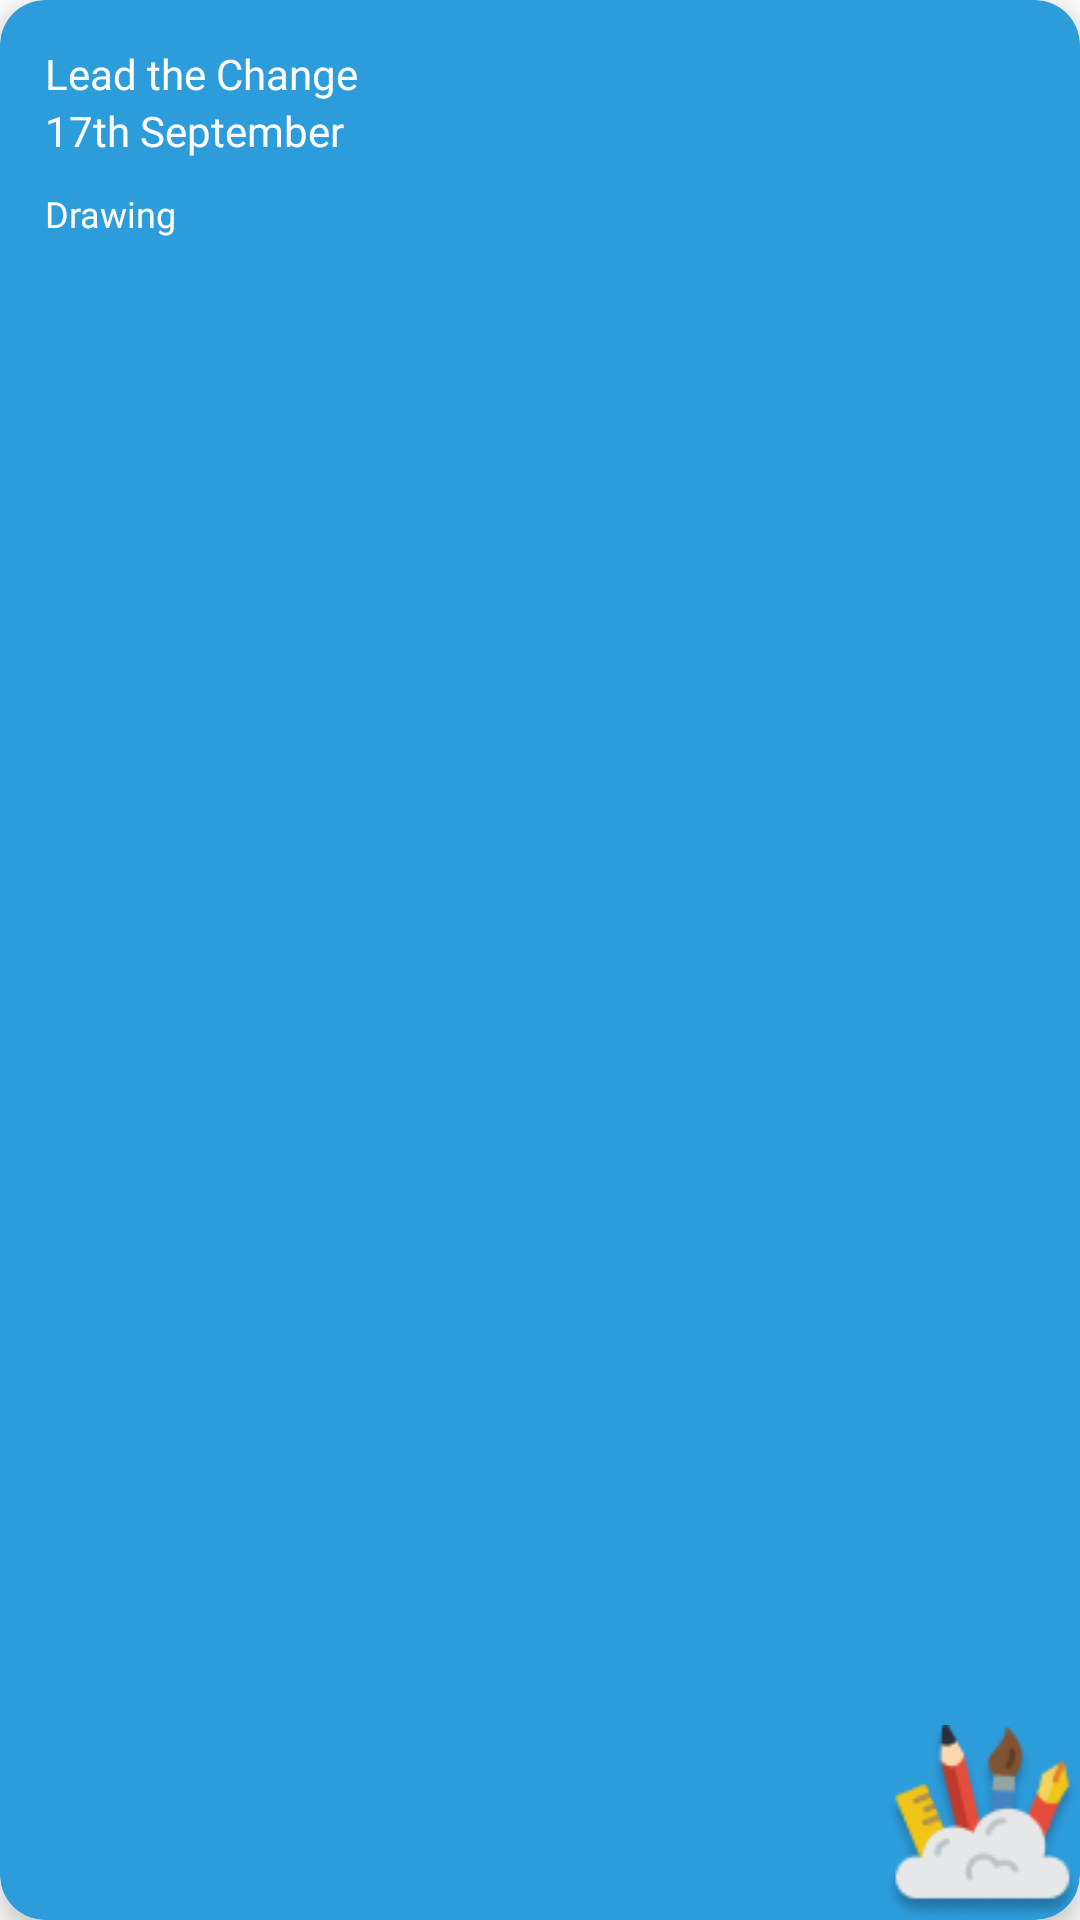

Screen size 1080x1920. Icon name, then its center in pixels as (x=x, y=y):
competition brush decoration: (x=987, y=1822)
